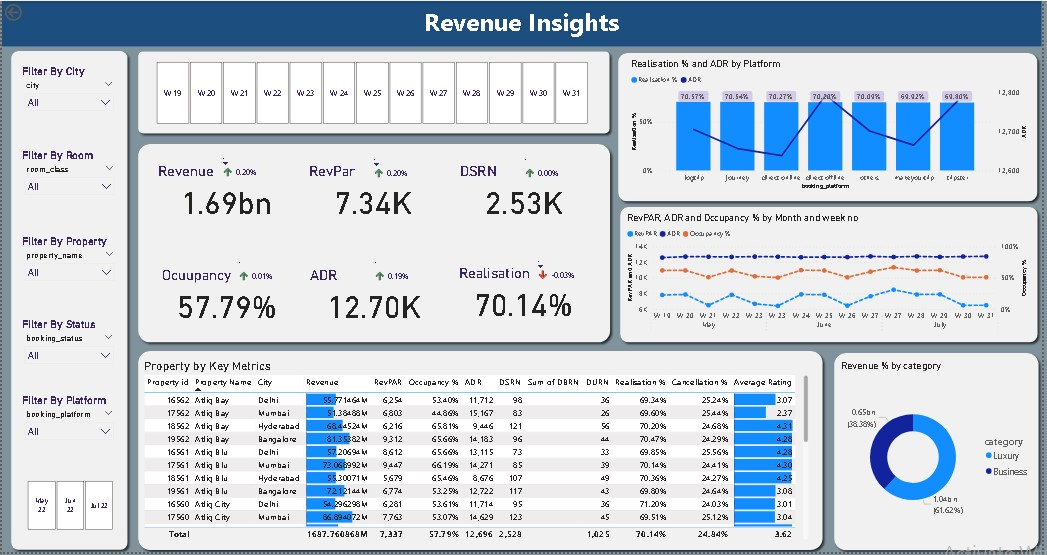

Layout of this report page (visuals, bound fields, positions):
{"tool":"powerbi","page":{"name":"Page 1","canvas":[1830,970],"ordinal":0},"visuals":[{"type":"shape","box":[230,607.5,1222.5,367.5],"z":0},{"type":"shape","box":[1075.7,82.9,755.7,278.6],"z":1000},{"type":"shape","box":[1078.6,354.3,752.9,255.7],"z":2000},{"type":"shape","box":[1455,610,377.5,365],"z":3000},{"type":"shape","box":[230,242.9,848.6,367.1],"z":4000},{"type":"shape","box":[230,80,847.5,162.5],"z":5000},{"type":"shape","box":[7.1,80,222.9,895.7],"z":6000},{"type":"tableEx","title":"Property by Key Metrics","fields":{"Values":["dim_hotels.property_id","dim_hotels.property_name","dim_hotels.city","key_measures.Revenue","key_measures.RevPAR","key_measures.Occupancy %","key_measures.ADR","key_measures.DSRN","Sum(key_measures.DBRN)","key_measures.DURN","key_measures.Realisation %","key_measures.Cancellation %"]},"box":[245,630,1180,322.5],"z":7000},{"type":"slicer","title":"Filter By City","fields":{"Values":["dim_hotels.city"]},"box":[30,112.9,177.1,100],"z":8000},{"type":"slicer","title":"Filter By City","fields":{"Values":["dim_date.mmm yy"]},"box":[18.6,838.6,200,100],"z":9000},{"type":"slicer","fields":{"Values":["dim_date.week no"]},"box":[245.7,100,808.6,122.9],"z":10000},{"type":"card","title":"Revenue","fields":{"Values":["key_measures.Revenue"]},"box":[270,282.9,252.9,104.3],"z":11000},{"type":"donutChart","title":"Revenue %  by category","fields":{"Category":["dim_hotels.category"],"Y":["key_measures.Revenue"]},"box":[1472.5,632.5,347.5,322.5],"z":12000},{"type":"tableEx","fields":{"Values":["key_measures.Revenue WoW change %"]},"box":[378.6,258.6,82.9,62.9],"z":13000},{"type":"textbox","box":[0,0,1830,80],"z":14000},{"type":"slicer","title":"Filter By Room","fields":{"Values":["dim_rooms.room_class"]},"box":[30,260,177.5,100],"z":15000},{"type":"slicer","title":"Filter By Property","fields":{"Values":["dim_hotels.property_name"]},"box":[30,412.5,177.5,100],"z":16000},{"type":"slicer","title":"Filter By Status","fields":{"Values":["fact_bookings.booking_status"]},"box":[30,558.6,177.1,100],"z":17000},{"type":"slicer","title":"Filter By Platform","fields":{"Values":["fact_bookings.booking_platform"]},"box":[30,691.4,177.1,100],"z":18000},{"type":"card","title":"RevPar","fields":{"Values":["key_measures.RevPAR"]},"box":[535.7,284.3,235.7,104.3],"z":19000},{"type":"tableEx","fields":{"Values":["key_measures.Revpar WoW change %"]},"box":[644.3,260,82.9,62.9],"z":20000},{"type":"card","title":"DSRN","fields":{"Values":["key_measures.DSRN"]},"box":[801.4,284.3,235.7,104.3],"z":21000},{"type":"tableEx","fields":{"Values":["key_measures.DSRN WoW change %"]},"box":[910,260,90,62.9],"z":22000},{"type":"card","title":"Ocuupancy %","fields":{"Values":["key_measures.Occupancy %"]},"box":[275.7,467.1,235.7,104.3],"z":23000},{"type":"tableEx","fields":{"Values":["key_measures.Occupancy WoW change %"]},"box":[407.1,441.4,92.9,62.9],"z":24000},{"type":"card","title":"ADR","fields":{"Values":["key_measures.ADR"]},"box":[537.1,465.7,235.7,104.3],"z":25000},{"type":"tableEx","fields":{"Values":["key_measures.ADR WoW change %"]},"box":[645.7,441.4,82.9,62.9],"z":26000},{"type":"card","title":"Realisation","fields":{"Values":["key_measures.Realisation %"]},"box":[800,462.9,235.7,104.3],"z":27000},{"type":"tableEx","fields":{"Values":["key_measures.Realisation WoW change %"]},"box":[932.9,440,102.9,64.3],"z":28000},{"type":"actionButton","box":[0,0,100,40],"z":29000},{"type":"lineChart","fields":{"Category":["dim_date.mmm yy.Variation.Date Hierarchy.Month","dim_date.week no"],"Y":["key_measures.RevPAR","key_measures.ADR"],"Y2":["key_measures.Occupancy %"]},"box":[1094.3,371.4,714.3,220],"z":30000},{"type":"lineStackedColumnComboChart","title":"Realisation % and ADR by Platform","fields":{"Category":["fact_bookings.booking_platform"],"Y":["key_measures.Realisation %"],"Y2":["key_measures.ADR"]},"box":[1101.4,100,707.1,235.7],"z":31000}]}

Visuals, with their boxes in screenshot pixels (x1, y1, x2, y2), scaled from the page's 1830x970 canvas onto the 1047x555 screenshot:
shape: [132,348,831,554]
shape: [615,47,1046,207]
shape: [617,203,1046,349]
shape: [832,349,1046,554]
shape: [132,139,617,349]
shape: [132,46,616,139]
shape: [4,46,132,554]
"Property by Key Metrics" tableEx: [140,360,815,545]
"Filter By City" slicer: [17,65,118,122]
"Filter By City" slicer: [11,480,125,537]
slicer - dim_date.week no: [141,57,603,128]
"Revenue" card: [154,162,299,222]
"Revenue %  by category" donutChart: [842,362,1041,546]
tableEx - key_measures.Revenue WoW change %: [217,148,264,184]
textbox: [0,0,1046,46]
"Filter By Room" slicer: [17,149,119,206]
"Filter By Property" slicer: [17,236,119,293]
"Filter By Status" slicer: [17,320,118,377]
"Filter By Platform" slicer: [17,396,118,453]
"RevPar" card: [306,163,441,222]
tableEx - key_measures.Revpar WoW change %: [369,149,416,185]
"DSRN" card: [459,163,593,222]
tableEx - key_measures.DSRN WoW change %: [521,149,572,185]
"Ocuupancy %" card: [158,267,293,327]
tableEx - key_measures.Occupancy WoW change %: [233,253,286,289]
"ADR" card: [307,266,442,326]
tableEx - key_measures.ADR WoW change %: [369,253,417,289]
"Realisation" card: [458,265,593,325]
tableEx - key_measures.Realisation WoW change %: [534,252,593,289]
actionButton: [0,0,57,23]
lineChart - dim_date.mmm yy.Variation.Date Hierarchy.Month x dim_date.week no: [626,213,1035,338]
"Realisation % and ADR by Platform" lineStackedColumnComboChart: [630,57,1035,192]
